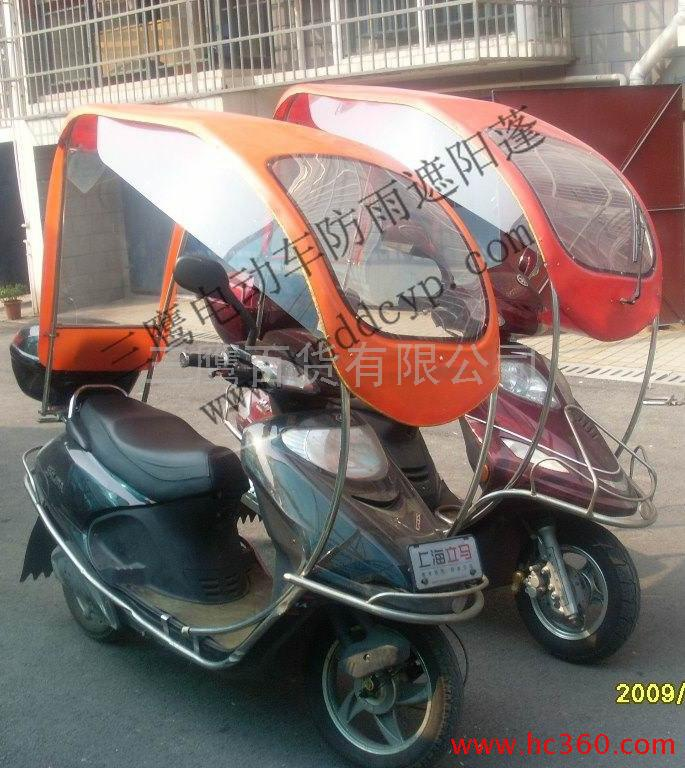non-vehicle: (4, 316, 463, 768), (201, 280, 654, 663)
